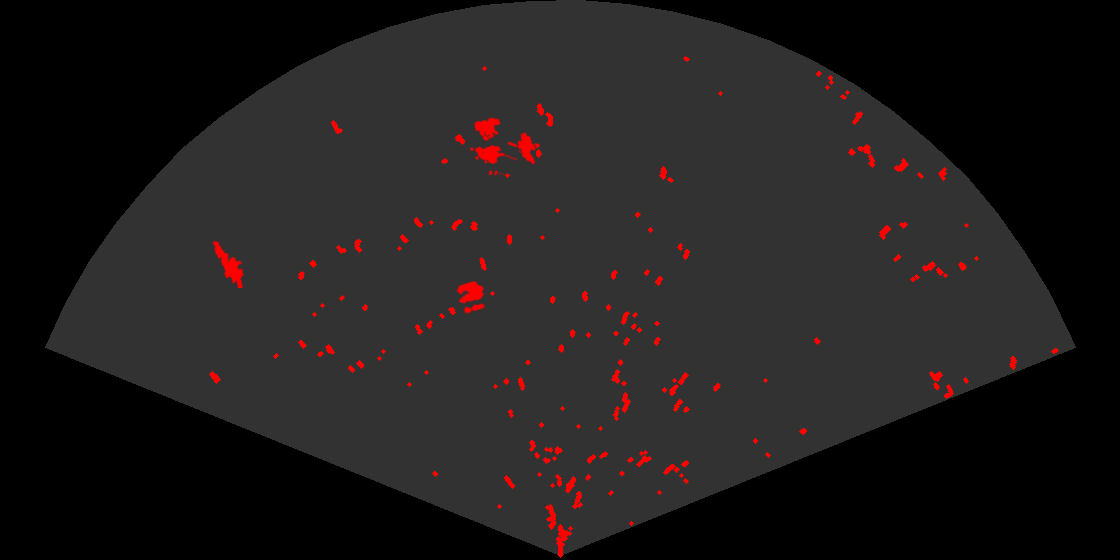AUV: (516, 131, 537, 166)
ball: (455, 279, 487, 315)
cage: (468, 116, 517, 175)
frogman: (211, 239, 246, 288)
